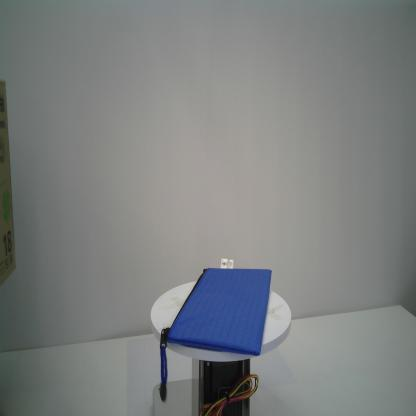Stationery: (160, 267, 274, 402)
